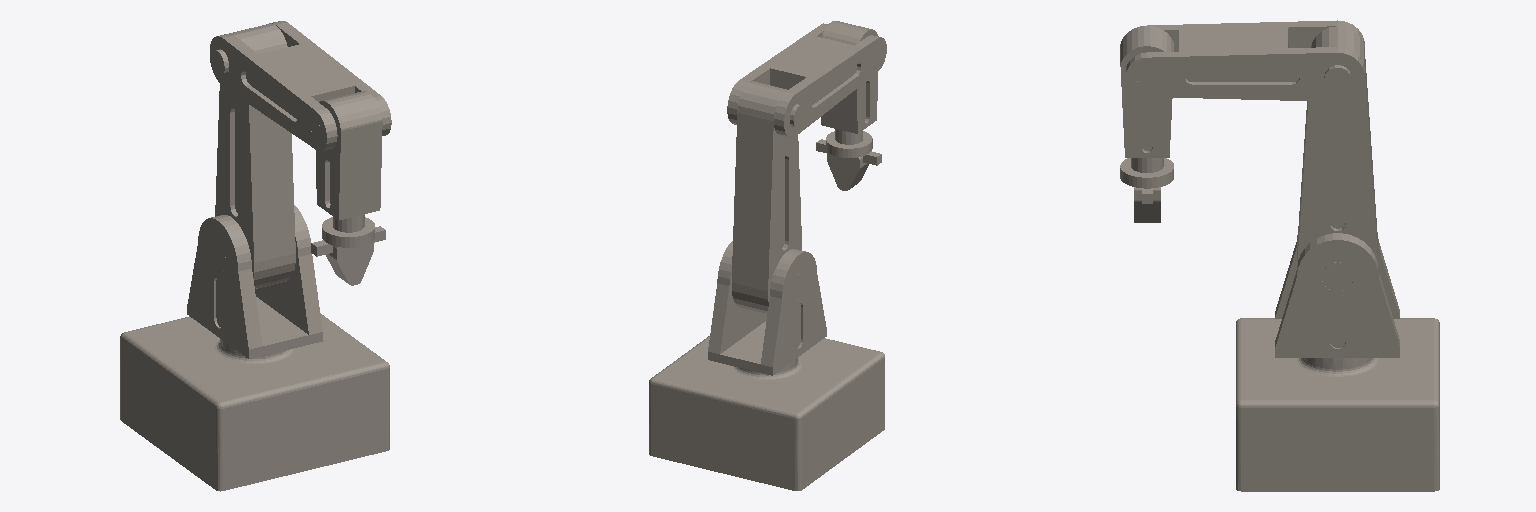
URDF robot description (RobotArmAssmtry2_KR-URDF):
<?xml version="1.0" encoding="utf-8"?>
<!-- This URDF was automatically created by SolidWorks to URDF Exporter! Originally created by [author] ([email redacted]) 
     Commit Version: 1.6.0-4-g7f85cfe  Build Version: 1.6.7995.38578
     For more information, please see http://wiki.ros.org/sw_urdf_exporter -->
<robot
  name="RobotArmAssmtry2_KR-URDF">
  <link
    name="base_link">
    <inertial>
      <origin
        xyz="-2.6021E-17 3.9031E-18 0.090482"
        rpy="0 0 0" />
      <mass
        value="200.71" />
      <inertia
        ixx="2.886"
        ixy="-4.8388E-16"
        ixz="9.5025E-17"
        iyy="2.886"
        iyz="2.1016E-16"
        izz="4.6711" />
    </inertial>
    <visual>
      <origin
        xyz="0 0 0"
        rpy="0 0 0" />
      <geometry>
        <mesh
          filename="package://RobotArmAssmtry2_KR-URDF/meshes/base_link.STL" />
      </geometry>
      <material
        name="">
        <color
          rgba="0.64706 0.61961 0.58824 1" />
      </material>
    </visual>
    <collision>
      <origin
        xyz="0 0 0"
        rpy="0 0 0" />
      <geometry>
        <mesh
          filename="package://RobotArmAssmtry2_KR-URDF/meshes/base_link.STL" />
      </geometry>
    </collision>
  </link>
  <link
    name="link_1">
    <inertial>
      <origin
        xyz="-4.3368E-18 2.3636E-17 0.050484"
        rpy="0 0 0" />
      <mass
        value="24.489" />
      <inertia
        ixx="0.20327"
        ixy="-3.8432E-17"
        ixz="-8.3753E-18"
        iyy="0.21043"
        iyz="-3.1918E-17"
        izz="0.15616" />
    </inertial>
    <visual>
      <origin
        xyz="0 0 0"
        rpy="0 0 0" />
      <geometry>
        <mesh
          filename="package://RobotArmAssmtry2_KR-URDF/meshes/link_1.STL" />
      </geometry>
      <material
        name="">
        <color
          rgba="0.64706 0.61961 0.58824 1" />
      </material>
    </visual>
    <collision>
      <origin
        xyz="0 0 0"
        rpy="0 0 0" />
      <geometry>
        <mesh
          filename="package://RobotArmAssmtry2_KR-URDF/meshes/link_1.STL" />
      </geometry>
    </collision>
  </link>
  <joint
    name="joint_1"
    type="revolute">
    <origin
      xyz="0 0 0.24"
      rpy="0 0 0" />
    <parent
      link="base_link" />
    <child
      link="link_1" />
    <axis
      xyz="0 0 1" />
    <limit
      lower="0"
      upper="3.142"
      effort="300"
      velocity="3" />
  </joint>
  <link
    name="link_2">
    <inertial>
      <origin
        xyz="-0.08 9.7361E-17 0.16982"
        rpy="0 0 0" />
      <mass
        value="46.25" />
      <inertia
        ixx="1.0707"
        ixy="-1.748E-18"
        ixz="1.3262E-16"
        iyy="1.0506"
        iyz="-5.8089E-16"
        izz="0.098267" />
    </inertial>
    <visual>
      <origin
        xyz="0 0 0"
        rpy="0 0 0" />
      <geometry>
        <mesh
          filename="package://RobotArmAssmtry2_KR-URDF/meshes/link_2.STL" />
      </geometry>
      <material
        name="">
        <color
          rgba="0.64706 0.61961 0.58824 1" />
      </material>
    </visual>
    <collision>
      <origin
        xyz="0 0 0"
        rpy="0 0 0" />
      <geometry>
        <mesh
          filename="package://RobotArmAssmtry2_KR-URDF/meshes/link_2.STL" />
      </geometry>
    </collision>
  </link>
  <joint
    name="joint_2"
    type="revolute">
    <origin
      xyz="0.08 0 0.145"
      rpy="0 0 0" />
    <parent
      link="link_1" />
    <child
      link="link_2" />
    <axis
      xyz="1 0 0" />
    <limit
      lower="-1.57"
      upper="1.57"
      effort="200"
      velocity="3" />
  </joint>
  <link
    name="link_3">
    <inertial>
      <origin
        xyz="-0.08 -0.17448 -1.6578E-05"
        rpy="0 0 0" />
      <mass
        value="25.215" />
      <inertia
        ixx="0.2383"
        ixy="-1.151E-17"
        ixz="4.4462E-17"
        iyy="0.068002"
        iyz="0.00024059"
        izz="0.27042" />
    </inertial>
    <visual>
      <origin
        xyz="0 0 0"
        rpy="0 0 0" />
      <geometry>
        <mesh
          filename="package://RobotArmAssmtry2_KR-URDF/meshes/link_3.STL" />
      </geometry>
      <material
        name="">
        <color
          rgba="0.64706 0.61961 0.58824 1" />
      </material>
    </visual>
    <collision>
      <origin
        xyz="0 0 0"
        rpy="0 0 0" />
      <geometry>
        <mesh
          filename="package://RobotArmAssmtry2_KR-URDF/meshes/link_3.STL" />
      </geometry>
    </collision>
  </link>
  <joint
    name="joint_3"
    type="revolute">
    <origin
      xyz="0 0 0.4"
      rpy="0 0 0" />
    <parent
      link="link_2" />
    <child
      link="link_3" />
    <axis
      xyz="1 0 0" />
    <limit
      lower="0"
      upper="3.142"
      effort="200"
      velocity="3" />
  </joint>
  <link
    name="link_4">
    <inertial>
      <origin
        xyz="-0.07 0 -0.069541"
        rpy="0 0 0" />
      <mass
        value="15.43" />
      <inertia
        ixx="0.086931"
        ixy="-1.0456E-18"
        ixz="-1.0108E-17"
        iyy="0.088133"
        iyz="-2.1053E-18"
        izz="0.020723" />
    </inertial>
    <visual>
      <origin
        xyz="0 0 0"
        rpy="0 0 0" />
      <geometry>
        <mesh
          filename="package://RobotArmAssmtry2_KR-URDF/meshes/link_4.STL" />
      </geometry>
      <material
        name="">
        <color
          rgba="0.64706 0.61961 0.58824 1" />
      </material>
    </visual>
    <collision>
      <origin
        xyz="0 0 0"
        rpy="0 0 0" />
      <geometry>
        <mesh
          filename="package://RobotArmAssmtry2_KR-URDF/meshes/link_4.STL" />
      </geometry>
    </collision>
  </link>
  <joint
    name="joint_4"
    type="revolute">
    <origin
      xyz="-0.01 -0.35 0"
      rpy="0 0 0" />
    <parent
      link="link_3" />
    <child
      link="link_4" />
    <axis
      xyz="1 0 0" />
    <limit
      lower="0"
      upper="-3.142"
      effort="200"
      velocity="3" />
  </joint>
  <link
    name="link_5">
    <inertial>
      <origin
        xyz="3.0358E-17 -5.5511E-17 -0.0061893"
        rpy="0 0 0" />
      <mass
        value="1.571" />
      <inertia
        ixx="0.0009974"
        ixy="1.6821E-19"
        ixz="5.8059E-19"
        iyy="0.0018704"
        iyz="1.5583E-19"
        izz="0.0024902" />
    </inertial>
    <visual>
      <origin
        xyz="0 0 0"
        rpy="0 0 0" />
      <geometry>
        <mesh
          filename="package://RobotArmAssmtry2_KR-URDF/meshes/link_5.STL" />
      </geometry>
      <material
        name="">
        <color
          rgba="0.64706 0.61961 0.58824 1" />
      </material>
    </visual>
    <collision>
      <origin
        xyz="0 0 0"
        rpy="0 0 0" />
      <geometry>
        <mesh
          filename="package://RobotArmAssmtry2_KR-URDF/meshes/link_5.STL" />
      </geometry>
    </collision>
  </link>
  <joint
    name="joint_5"
    type="revolute">
    <origin
      xyz="-0.07 0 -0.225"
      rpy="0 0 0" />
    <parent
      link="link_4" />
    <child
      link="link_5" />
    <axis
      xyz="0 0 -1" />
    <limit
      lower="0"
      upper="3.142"
      effort="200"
      velocity="3" />
  </joint>
  <link
    name="link_6">
    <inertial>
      <origin
        xyz="0.058814 0.01 -0.020817"
        rpy="0 0 0" />
      <mass
        value="0.94802" />
      <inertia
        ixx="0.00070852"
        ixy="1.5329E-20"
        ixz="8.2588E-05"
        iyy="0.00059395"
        iyz="-1.7275E-20"
        izz="0.0003235" />
    </inertial>
    <visual>
      <origin
        xyz="0 0 0"
        rpy="0 0 0" />
      <geometry>
        <mesh
          filename="package://RobotArmAssmtry2_KR-URDF/meshes/link_6.STL" />
      </geometry>
      <material
        name="">
        <color
          rgba="0.64706 0.61961 0.58824 1" />
      </material>
    </visual>
    <collision>
      <origin
        xyz="0 0 0"
        rpy="0 0 0" />
      <geometry>
        <mesh
          filename="package://RobotArmAssmtry2_KR-URDF/meshes/link_6.STL" />
      </geometry>
    </collision>
  </link>
  <joint
    name="joint_6"
    type="prismatic">
    <origin
      xyz="-0.075 -0.01 -0.03"
      rpy="0 0 0" />
    <parent
      link="link_5" />
    <child
      link="link_6" />
    <axis
      xyz="1 0 0" />
    <limit
      lower="0"
      upper="-0.03"
      effort="100"
      velocity="3" />
  </joint>
  <link
    name="link_7">
    <inertial>
      <origin
        xyz="0.091186 -0.01 -0.020817"
        rpy="0 0 0" />
      <mass
        value="0.94802" />
      <inertia
        ixx="0.00070852"
        ixy="4.2537E-21"
        ixz="-8.2588E-05"
        iyy="0.00059395"
        iyz="4.8911E-21"
        izz="0.0003235" />
    </inertial>
    <visual>
      <origin
        xyz="0 0 0"
        rpy="0 0 0" />
      <geometry>
        <mesh
          filename="package://RobotArmAssmtry2_KR-URDF/meshes/link_7.STL" />
      </geometry>
      <material
        name="">
        <color
          rgba="0.64706 0.61961 0.58824 1" />
      </material>
    </visual>
    <collision>
      <origin
        xyz="0 0 0"
        rpy="0 0 0" />
      <geometry>
        <mesh
          filename="package://RobotArmAssmtry2_KR-URDF/meshes/link_7.STL" />
      </geometry>
    </collision>
  </link>
  <joint
    name="joint_7"
    type="prismatic">
    <origin
      xyz="-0.075 0.01 -0.03"
      rpy="0 0 0" />
    <parent
      link="link_5" />
    <child
      link="link_7" />
    <axis
      xyz="-1 0 0" />
    <limit
      lower="0"
      upper="0.03"
      effort="100"
      velocity="3" />
  </joint>
</robot>

--- Facts derived from the render (not from the file) ---
The picture shows the robot from 3 angles, left to right: view 1: azimuth 30°, elevation 25°; view 2: azimuth 150°, elevation 25°; view 3: azimuth 270°, elevation 25°; orthographic projection.
Model RobotArmAssmtry2_KR-URDF with 8 links and 7 joints (5 revolute, 2 prismatic), rooted at base_link, posed every joint at zero.
Visible links, largest first — view 1: base_link, link_2, link_1, link_3, link_4, link_5, link_6; view 2: base_link, link_2, link_1, link_3, link_4, link_5, link_6; view 3: base_link, link_3, link_2, link_1, link_4, link_5, link_7.
Boxes of the visible links, <box> form: base_link: <box>120,313,389,491</box>; link_2: <box>210,23,295,288</box>; link_1: <box>187,205,322,358</box>; link_3: <box>210,21,391,151</box>; link_4: <box>311,91,382,232</box>; link_5: <box>311,217,385,256</box>; link_6: <box>326,246,354,285</box>; base_link: <box>649,336,884,490</box>; link_2: <box>732,81,806,313</box>; link_1: <box>708,241,826,375</box>; link_3: <box>727,23,886,137</box>; link_4: <box>821,21,881,144</box>; link_5: <box>816,131,881,165</box>; link_6: <box>843,156,868,190</box>; base_link: <box>1236,318,1439,491</box>; link_3: <box>1126,20,1364,101</box>; link_2: <box>1297,26,1377,291</box>; link_1: <box>1275,232,1399,357</box>; link_4: <box>1120,26,1173,172</box>; link_5: <box>1120,158,1173,203</box>; link_7: <box>1134,187,1160,222</box>.
Bounding box of the posed robot: 0.375 × 0.5873 × 0.8363 m (x, y, z).
8 mesh visuals loaded from 8 distinct referenced files (8 binary STL).